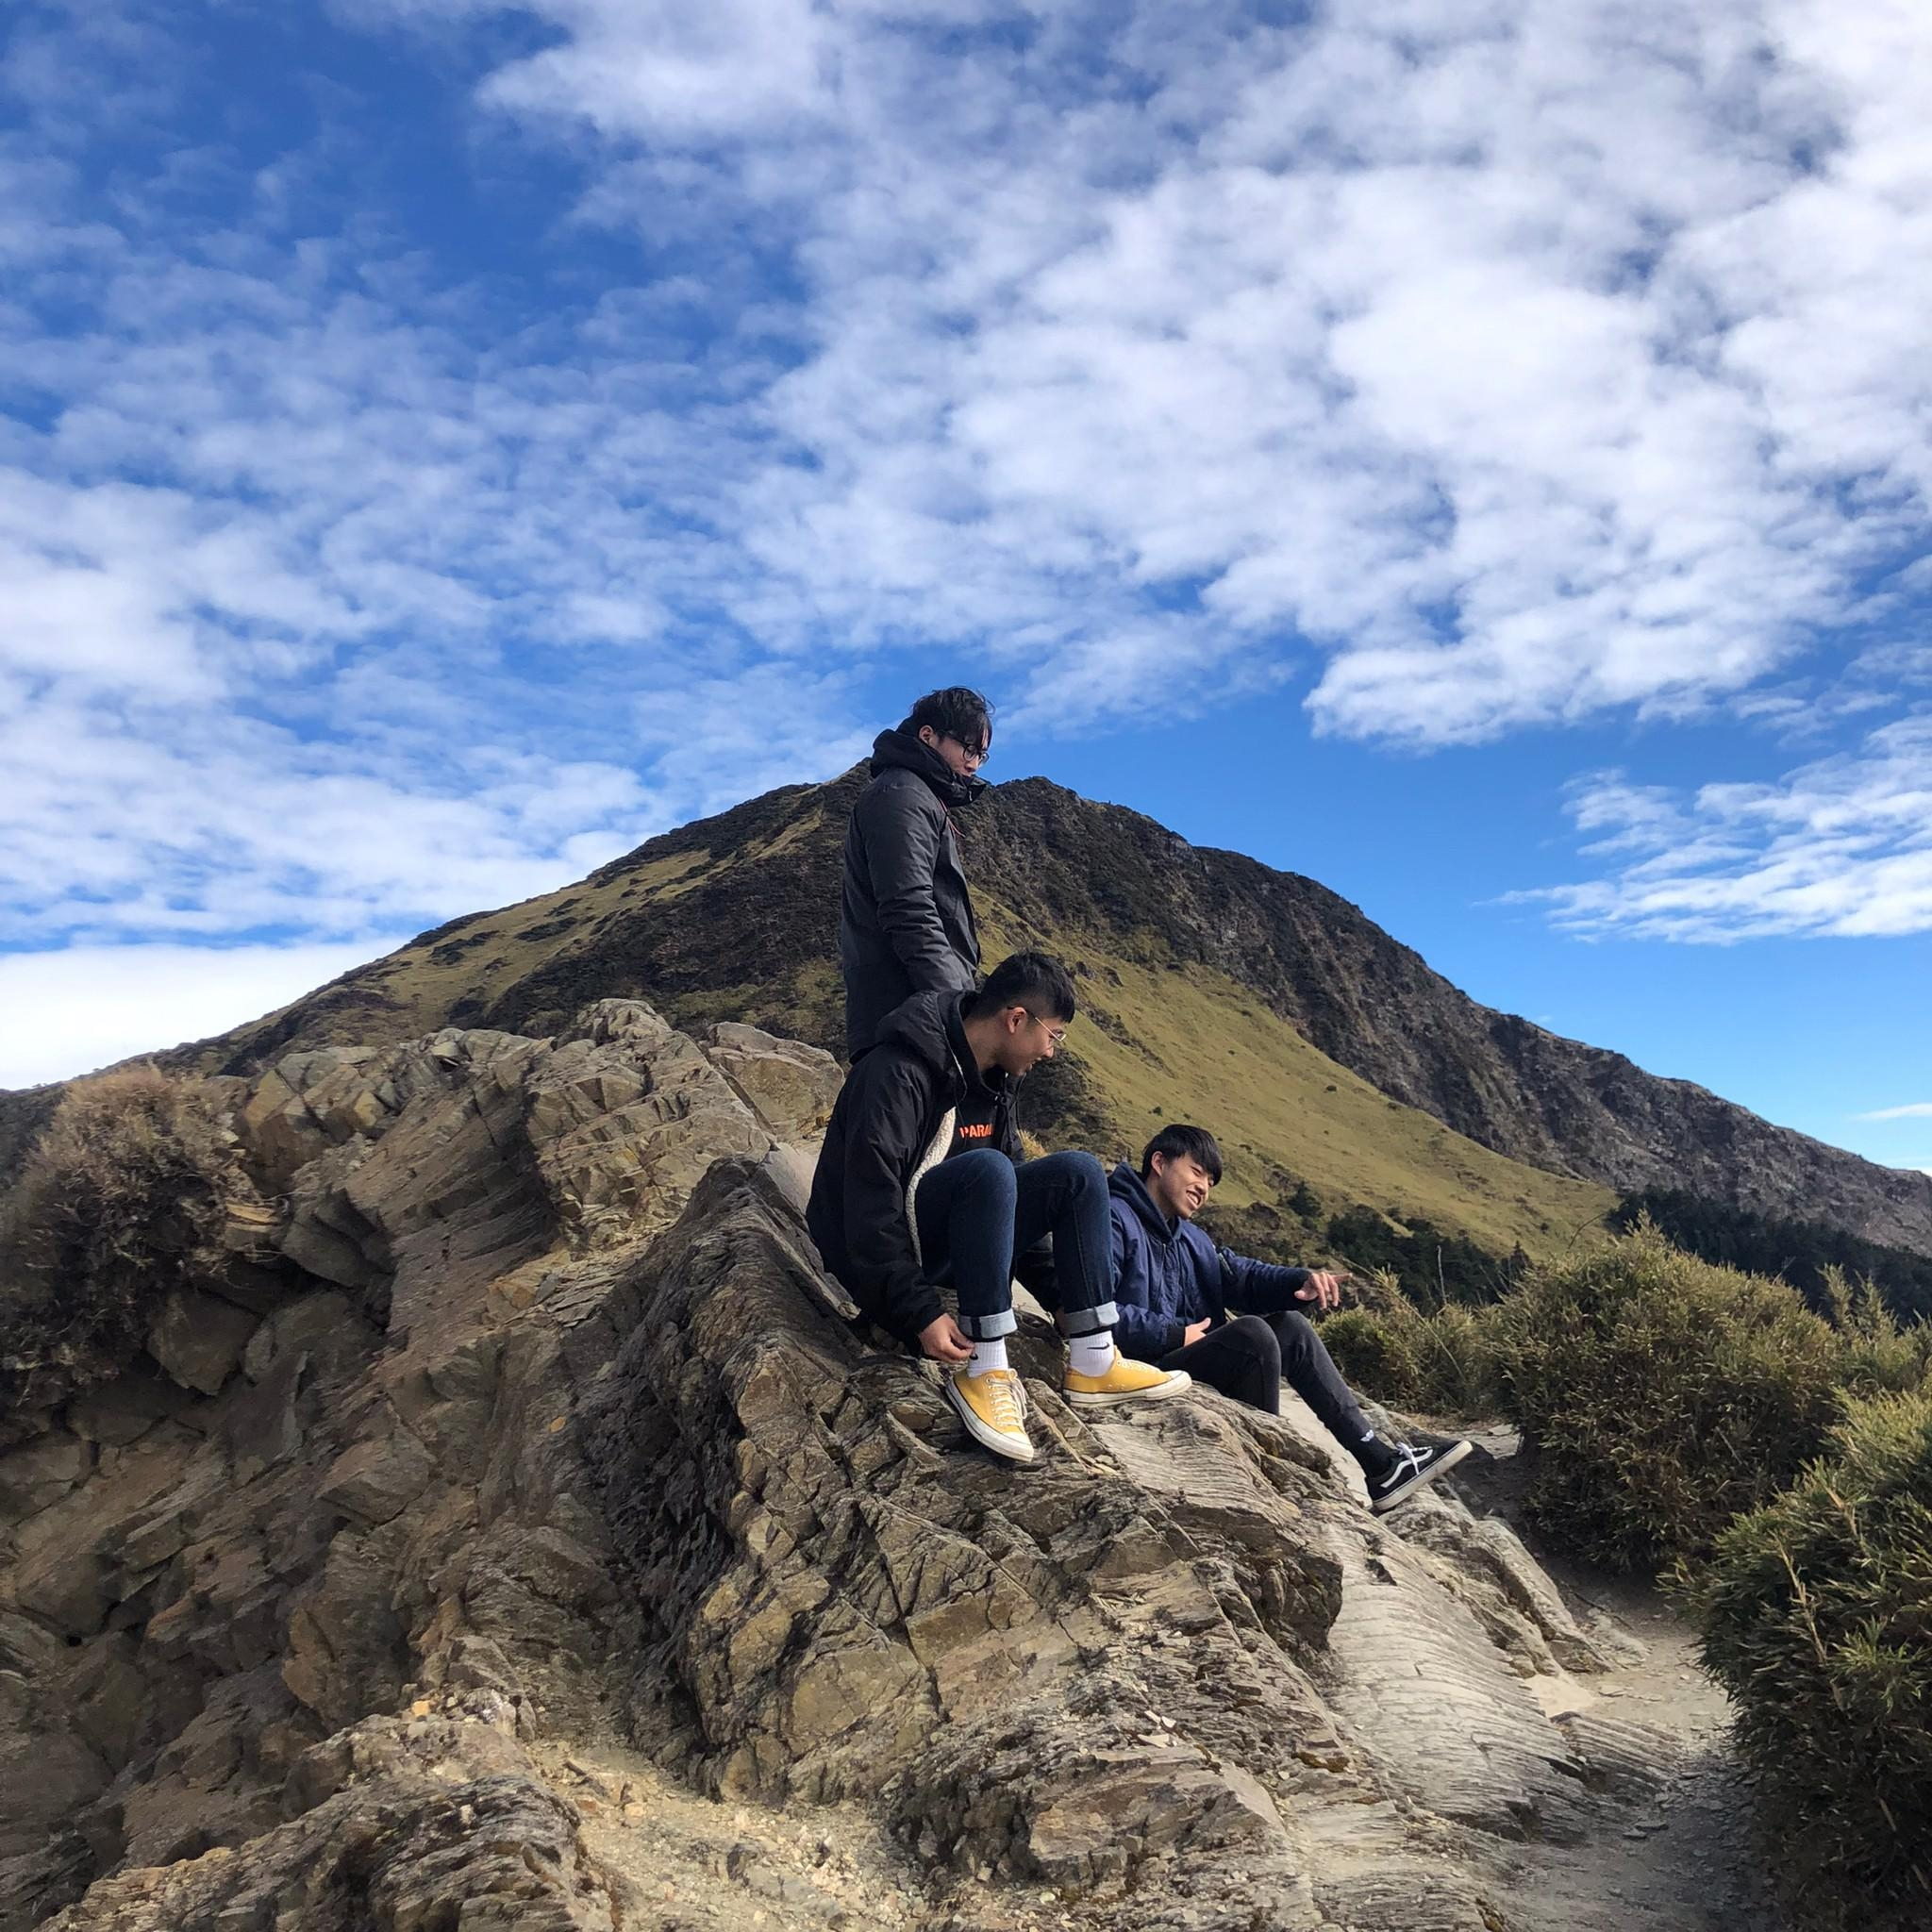people: (1110, 1122, 1482, 1521), (855, 955, 1123, 1472), (855, 690, 1001, 1091)
